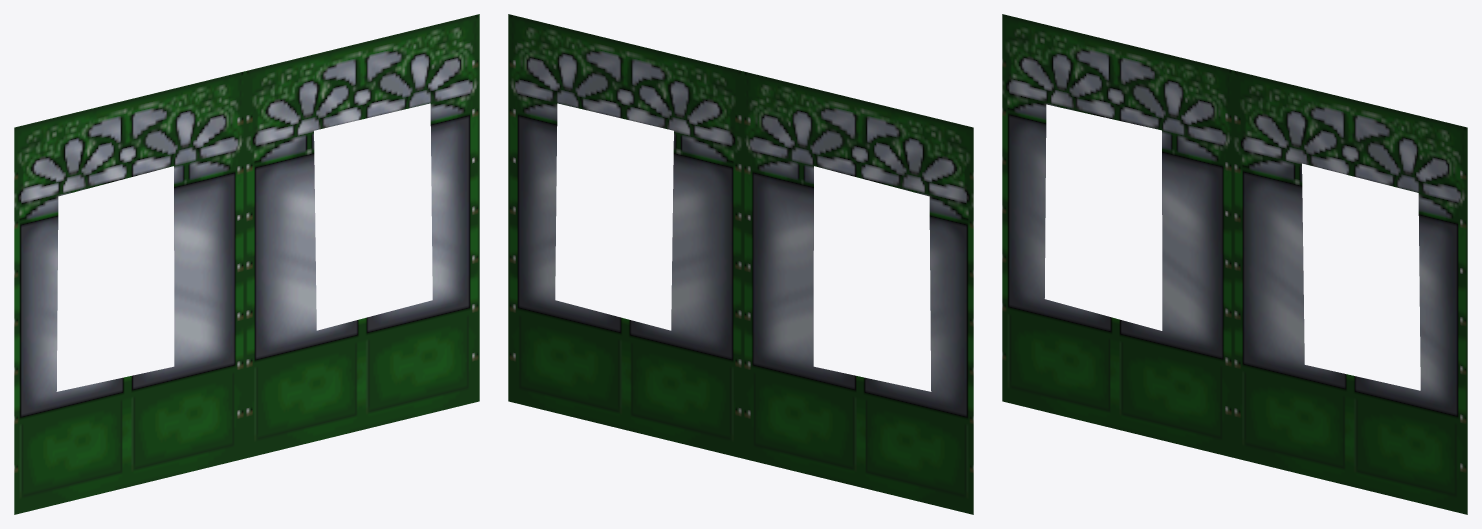
Rendered from W_AI1_ff [GrünesMetall]_315.glb.
3 renders of one model, left to right at view 1: azimuth 30°, elevation 25°; view 2: azimuth 150°, elevation 25°; view 3: azimuth 330°, elevation 25°, orthographic.
Parts seen in each view (by area): view 1: pPlaneShape1; view 2: pPlaneShape1; view 3: pPlaneShape1.
Part boxes in pixels (<box>): pPlaneShape1: <box>14,14,479,514</box>; pPlaneShape1: <box>508,14,973,514</box>; pPlaneShape1: <box>1002,14,1467,514</box>.
Bounding box in the file's own units: 0.4385 × 0.3486 × 1.34e-07.
1 material, 1 textured.
